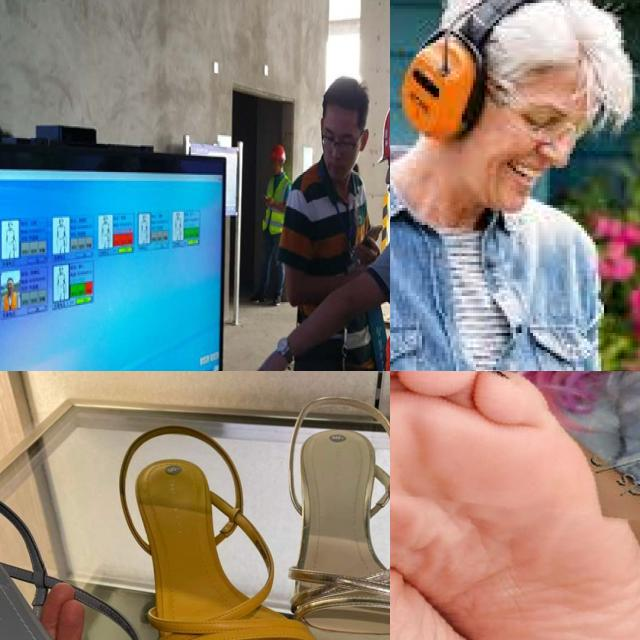Barefoots: (390, 371, 640, 640)
Ear-protection: (396, 0, 567, 143)
Sandals: (106, 400, 336, 640), (0, 437, 269, 640), (260, 371, 390, 640)
